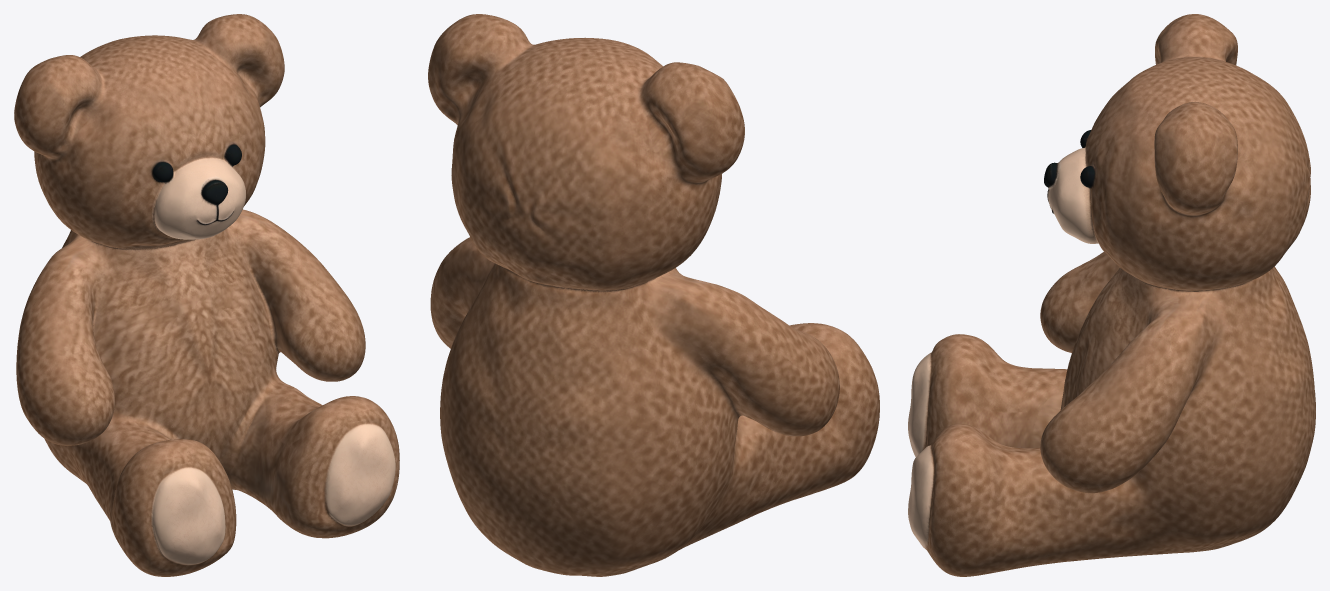
The model's file is teddy_bear.glb.
3 renders of one model, left to right at view 1: azimuth 30°, elevation 25°; view 2: azimuth 150°, elevation 25°; view 3: azimuth 270°, elevation 25°, orthographic. The views are drawn at different scales.
Bounding box in the file's own units: 1.49 × 1.9 × 1.5.
Materials: 1 (1 with a texture image).
